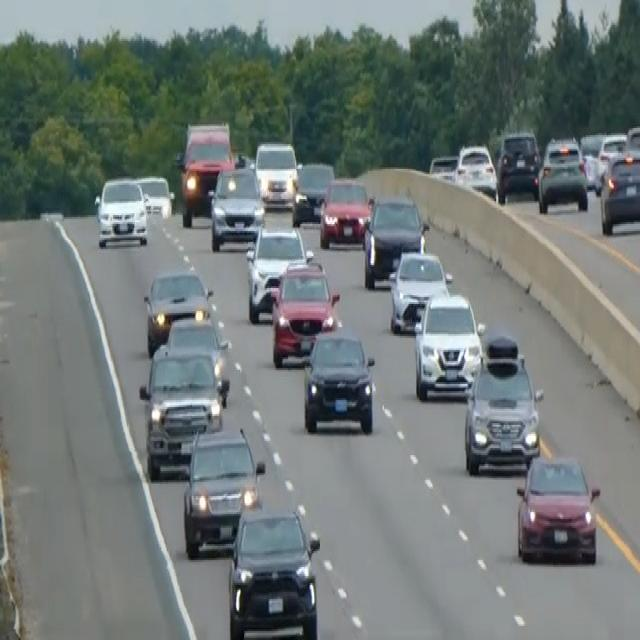car: (227, 503, 321, 638), (138, 341, 227, 480), (463, 334, 543, 475), (182, 425, 265, 558), (515, 452, 601, 566), (302, 324, 375, 436), (413, 290, 484, 402), (270, 258, 340, 368), (245, 224, 312, 322), (164, 311, 232, 404), (143, 266, 213, 354), (362, 194, 427, 288), (387, 247, 452, 334), (207, 164, 265, 250), (93, 174, 148, 247), (537, 135, 588, 213), (318, 174, 371, 249), (599, 149, 639, 235), (496, 128, 541, 203), (254, 138, 298, 210), (291, 160, 335, 226), (454, 142, 498, 199), (595, 132, 627, 190), (136, 172, 175, 218), (579, 130, 604, 190), (428, 153, 458, 183)
jeep: (173, 117, 236, 226)
